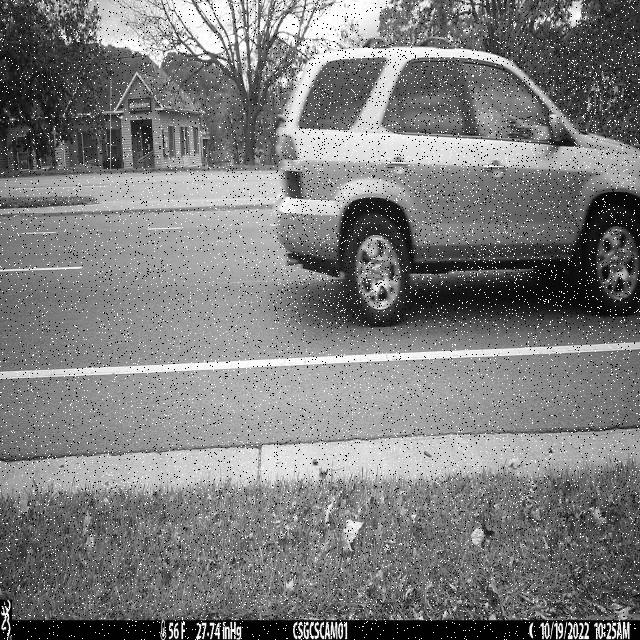SUV: (273, 37, 640, 328)
